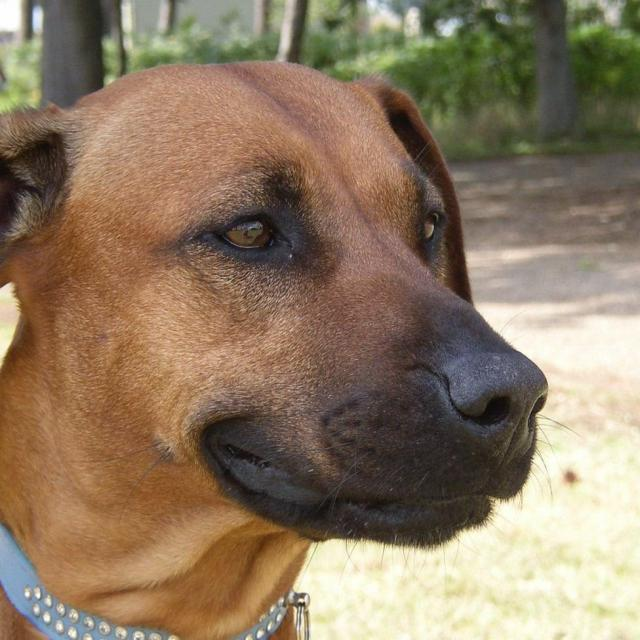Dog: (0, 52, 550, 640)
